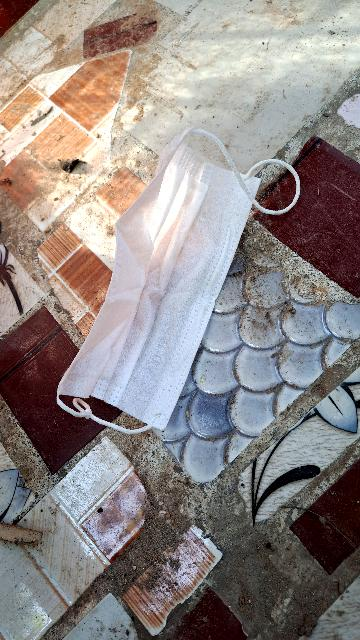mask: (60, 147, 259, 438)
